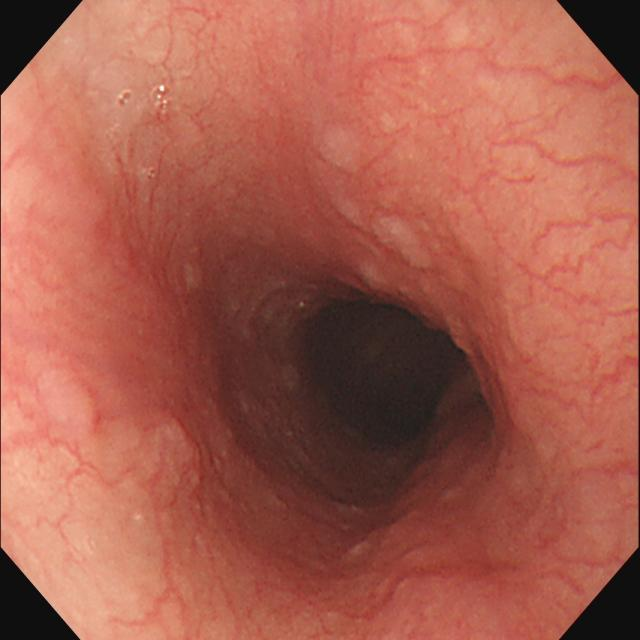E: (294, 295, 464, 447)
J: (300, 126, 431, 293)
T: (148, 85, 173, 116)
